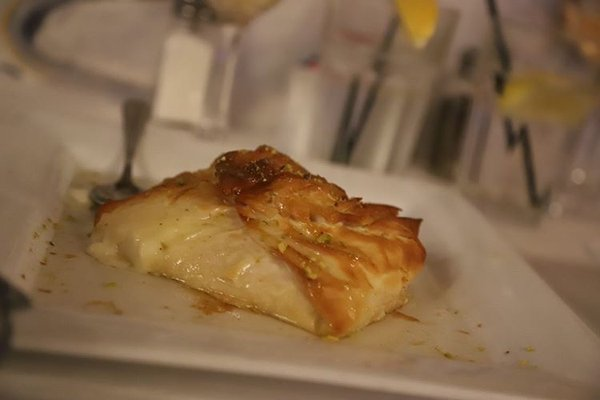curry: (8, 142, 598, 393)
sandwich: (83, 145, 427, 339)
